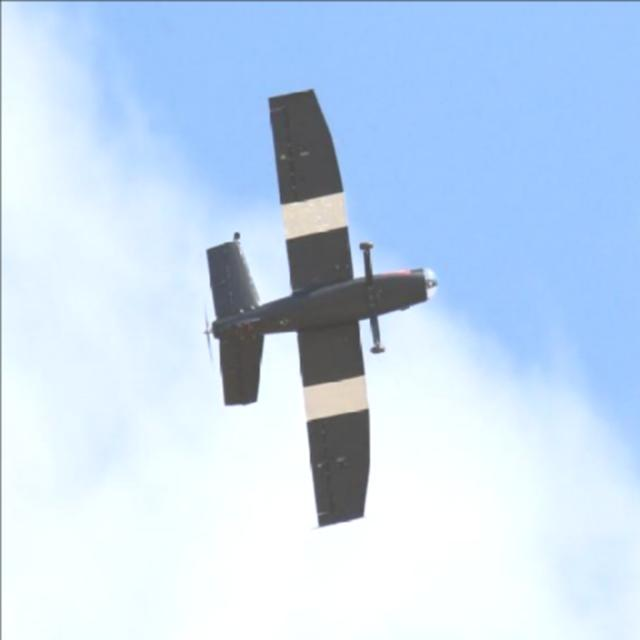plane: (201, 84, 440, 526)
